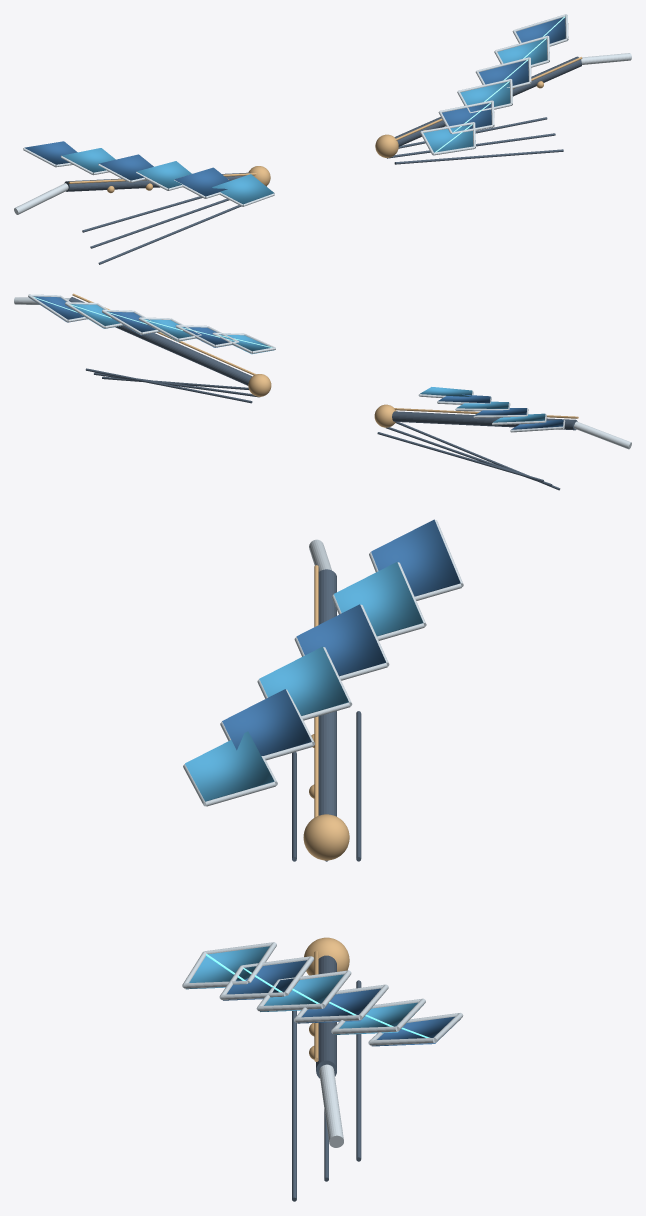
Rendered from solar_sails.glb.
3 renders of one model, top to bottom at view 1: azimuth 30°, elevation 25°; view 2: azimuth 150°, elevation 25°; view 3: azimuth 270°, elevation 25°, orthographic. The views are drawn at different scales.
Visible parts, largest first — view 1: DISPLAY_00_10_•_Solar_tile_cyan, DISPLAY_03_09_•_Sapphire_solar_glass, DISPLAY_05_04_•_Graphite_titanium, DISPLAY_01_01_•_Porcelain_silver, DISPLAY_04_03_•_Champagne_bronze; view 2: DISPLAY_05_04_•_Graphite_titanium, DISPLAY_01_01_•_Porcelain_silver, DISPLAY_03_09_•_Sapphire_solar_glass, DISPLAY_00_10_•_Solar_tile_cyan, DISPLAY_04_03_•_Champagne_bronze, DISPLAY_02_11_•_Ion_emission_blue; view 3: DISPLAY_00_10_•_Solar_tile_cyan, DISPLAY_03_09_•_Sapphire_solar_glass, DISPLAY_01_01_•_Porcelain_silver, DISPLAY_05_04_•_Graphite_titanium, DISPLAY_04_03_•_Champagne_bronze.
Part boxes in pixels (left/top/right/bottom): DISPLAY_00_10_•_Solar_tile_cyan: left=62, top=39, right=547, bottom=204; DISPLAY_03_09_•_Sapphire_solar_glass: left=25, top=17, right=565, bottom=196; DISPLAY_05_04_•_Graphite_titanium: left=64, top=56, right=581, bottom=264; DISPLAY_01_01_•_Porcelain_silver: left=14, top=14, right=631, bottom=214; DISPLAY_04_03_•_Champagne_bronze: left=68, top=57, right=582, bottom=193; DISPLAY_05_04_•_Graphite_titanium: left=69, top=297, right=577, bottom=490; DISPLAY_01_01_•_Porcelain_silver: left=14, top=294, right=631, bottom=449; DISPLAY_03_09_•_Sapphire_solar_glass: left=29, top=296, right=563, bottom=429; DISPLAY_00_10_•_Solar_tile_cyan: left=66, top=304, right=545, bottom=422; DISPLAY_04_03_•_Champagne_bronze: left=72, top=293, right=578, bottom=427; DISPLAY_02_11_•_Ion_emission_blue: left=33, top=296, right=272, bottom=347; DISPLAY_00_10_•_Solar_tile_cyan: left=185, top=562, right=423, bottom=1034; DISPLAY_03_09_•_Sapphire_solar_glass: left=222, top=519, right=460, bottom=1046; DISPLAY_01_01_•_Porcelain_silver: left=182, top=520, right=463, bottom=1147; DISPLAY_05_04_•_Graphite_titanium: left=292, top=569, right=361, bottom=1201; DISPLAY_04_03_•_Champagne_bronze: left=303, top=565, right=349, bottom=1061.
Bounding box in the file's own units: 14.03 × 2.21 × 2.8.
